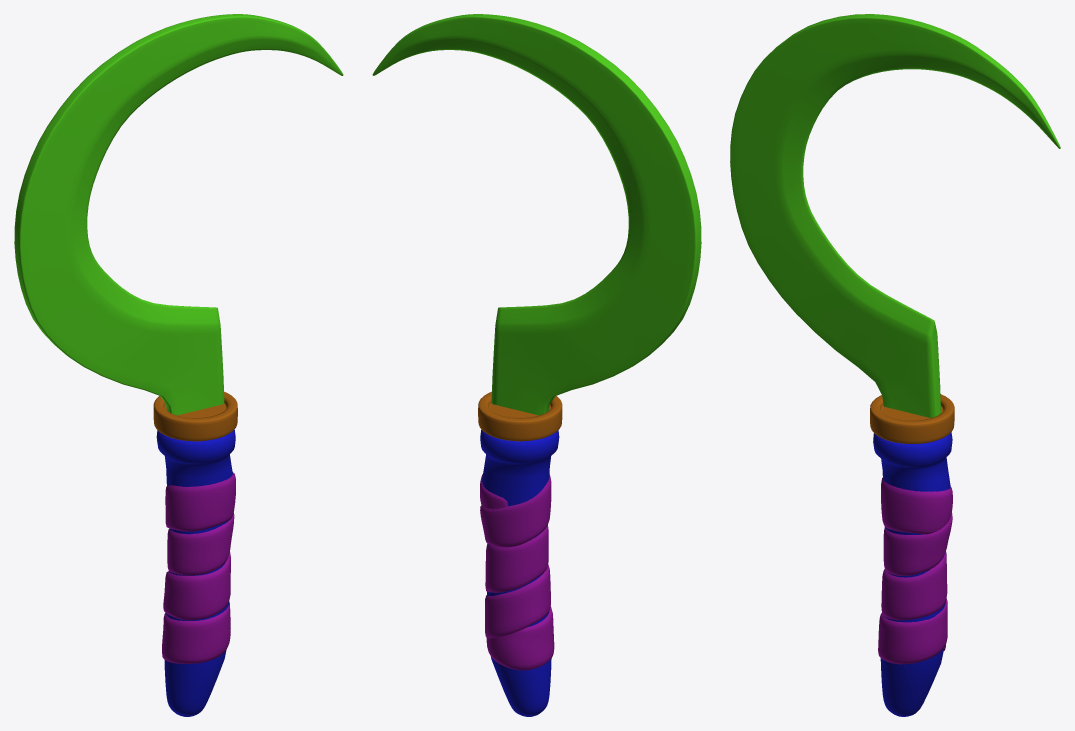
Rendered from weapon_sirppi.fbx.
The picture shows the model from 3 angles, left to right: view 1: azimuth 30°, elevation 25°; view 2: azimuth 150°, elevation 25°; view 3: azimuth 330°, elevation 25°; orthographic projection.
Parts seen in each view (by area): view 1: weapon; view 2: weapon; view 3: weapon.
Boxes of the visible parts, x1=… form: weapon: x1=14, y1=14, x2=343, y2=716; weapon: x1=372, y1=14, x2=701, y2=716; weapon: x1=730, y1=14, x2=1060, y2=716.
Bounding box in the file's own units: 31.51 × 63.86 × 7.07.
